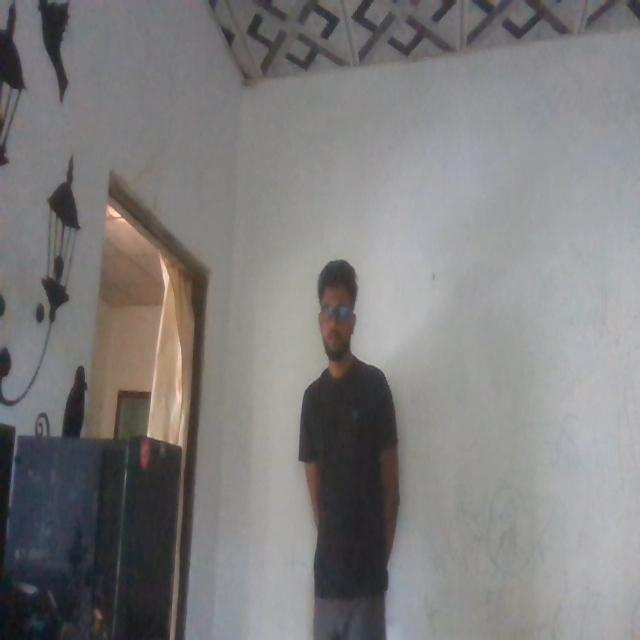Person: (292, 252, 409, 632)
